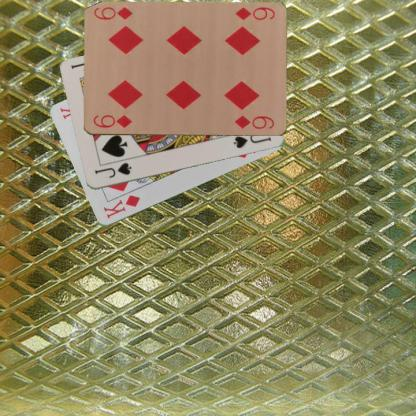6d: (91, 112, 133, 130), (233, 5, 276, 22)
Js: (92, 160, 132, 180)
Kd: (101, 193, 142, 220)
